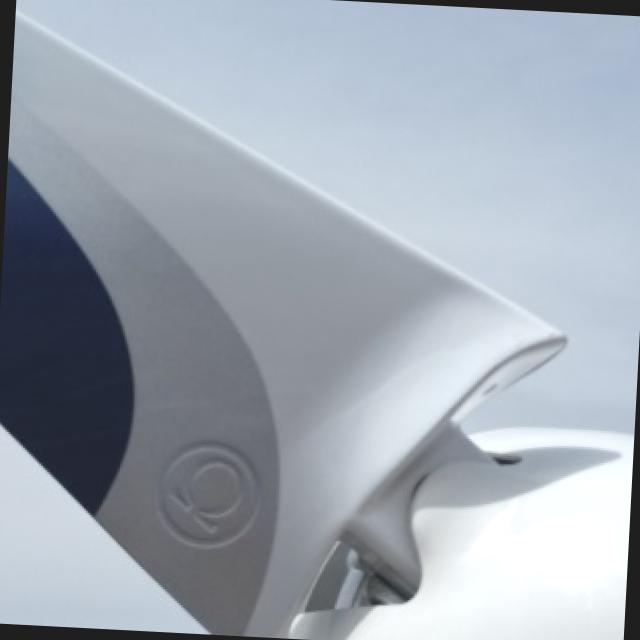healthy: (0, 544, 199, 632)
